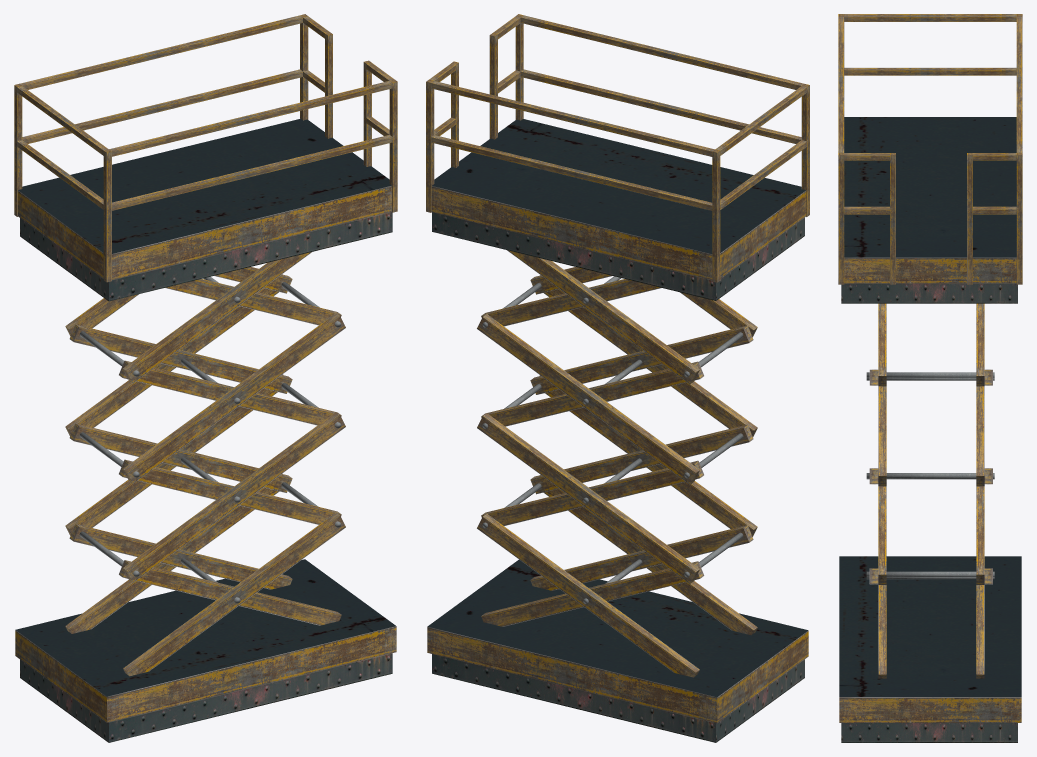
File: Truss-01.fbx
3 views of the same model, side by side, from view 1: azimuth 30°, elevation 25°; view 2: azimuth 150°, elevation 25°; view 3: azimuth 270°, elevation 25° (orthographic).
Visible parts, largest first — view 1: Cube; view 2: Cube; view 3: Cube.
Boxes of the visible parts, bbox=[...] form: Cube: bbox=[14, 14, 397, 742]; Cube: bbox=[426, 14, 809, 742]; Cube: bbox=[838, 14, 1022, 742].
Bounding box in the file's own units: 413 × 804 × 228.
